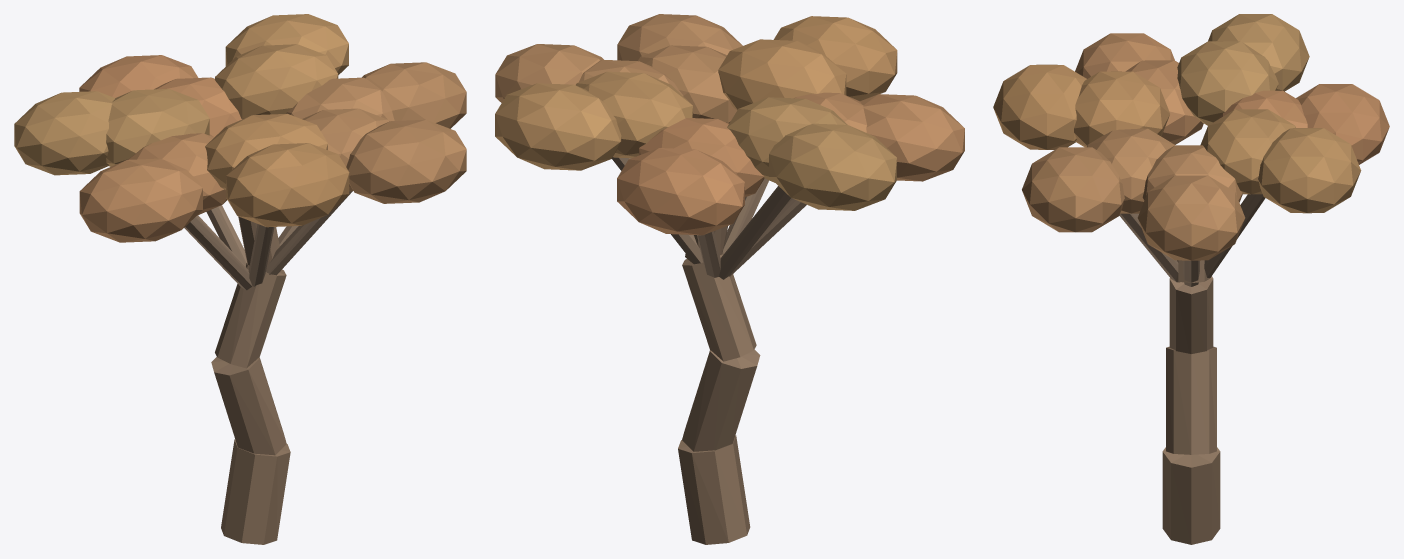
Rendered from desert_flat_canopy_tree.glb.
The picture shows the model from 3 angles, left to right: view 1: azimuth 30°, elevation 25°; view 2: azimuth 150°, elevation 25°; view 3: azimuth 270°, elevation 25°; orthographic projection. The views are drawn at different scales.
Visible parts, largest first — view 1: canopy_5_1, canopy_4_1, canopy_6_1, canopy_3_1, canopy_1_0, trunk_0, canopy_3_0, canopy_0_1, trunk_1, canopy_5_0, trunk_2, canopy_1_1 (+10 smaller); view 2: canopy_2_1, canopy_3_1, canopy_1_1, canopy_4_1, canopy_5_0, trunk_0, canopy_5_1, canopy_1_0, trunk_1, trunk_2, canopy_3_0, canopy_6_0 (+10 smaller); view 3: canopy_0_1, canopy_6_1, canopy_1_1, canopy_5_1, canopy_3_0, trunk_1, canopy_5_0, trunk_0, canopy_2_1, canopy_1_0, canopy_3_1, canopy_6_0 (+7 smaller).
Part boxes in pixels (box(x1,y1,x2,y2)): canopy_5_1: box(226, 143, 349, 227); canopy_4_1: box(79, 158, 202, 242); canopy_6_1: box(346, 119, 466, 203); canopy_3_1: box(14, 91, 115, 175); canopy_1_0: box(215, 44, 338, 119); trunk_0: box(221, 439, 290, 544); canopy_3_0: box(106, 89, 209, 166); canopy_0_1: box(362, 62, 466, 128); trunk_1: box(211, 357, 286, 455); canopy_5_0: box(205, 113, 327, 189); trunk_2: box(215, 263, 286, 368); canopy_1_1: box(225, 14, 348, 74); canopy_2_1: box(617, 148, 744, 235); canopy_3_1: box(769, 123, 896, 210); canopy_1_1: box(495, 83, 621, 170); canopy_4_1: box(860, 94, 964, 181); canopy_5_0: box(718, 39, 846, 110); trunk_0: box(678, 435, 750, 544); canopy_5_1: box(773, 16, 897, 101); canopy_1_0: box(576, 71, 692, 158); trunk_1: box(682, 349, 760, 451); trunk_2: box(682, 252, 756, 361); canopy_3_0: box(727, 97, 847, 182); canopy_6_0: box(638, 45, 736, 123); canopy_0_1: box(1137, 175, 1245, 260); canopy_6_1: box(1022, 147, 1124, 232); canopy_1_1: box(1258, 128, 1361, 213); canopy_5_1: box(993, 64, 1086, 149); canopy_3_0: box(1177, 41, 1278, 125); trunk_1: box(1166, 346, 1216, 454); canopy_5_0: box(1074, 71, 1169, 147); trunk_0: box(1162, 447, 1220, 544); canopy_2_1: box(1296, 84, 1389, 164); canopy_1_0: box(1200, 109, 1295, 194); canopy_3_1: box(1208, 14, 1309, 91); canopy_6_0: box(1087, 128, 1174, 213).
Size of the model in its own units: 2.45 by 2.54 by 2.06.
